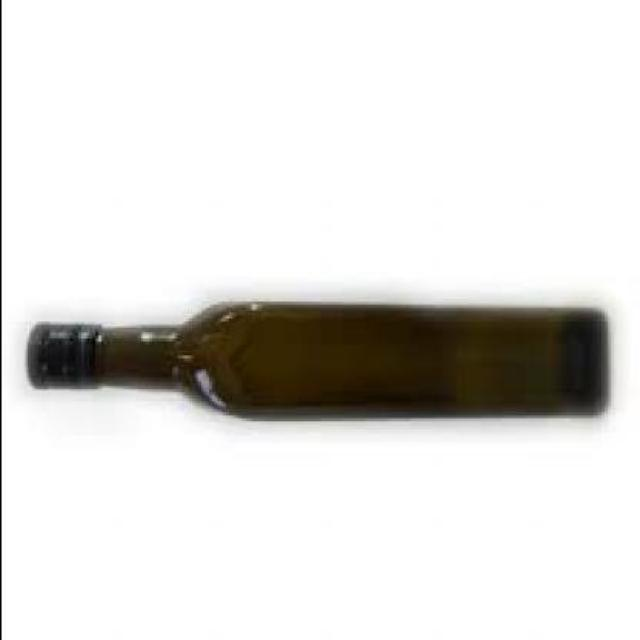GLASS: (26, 307, 606, 421)
